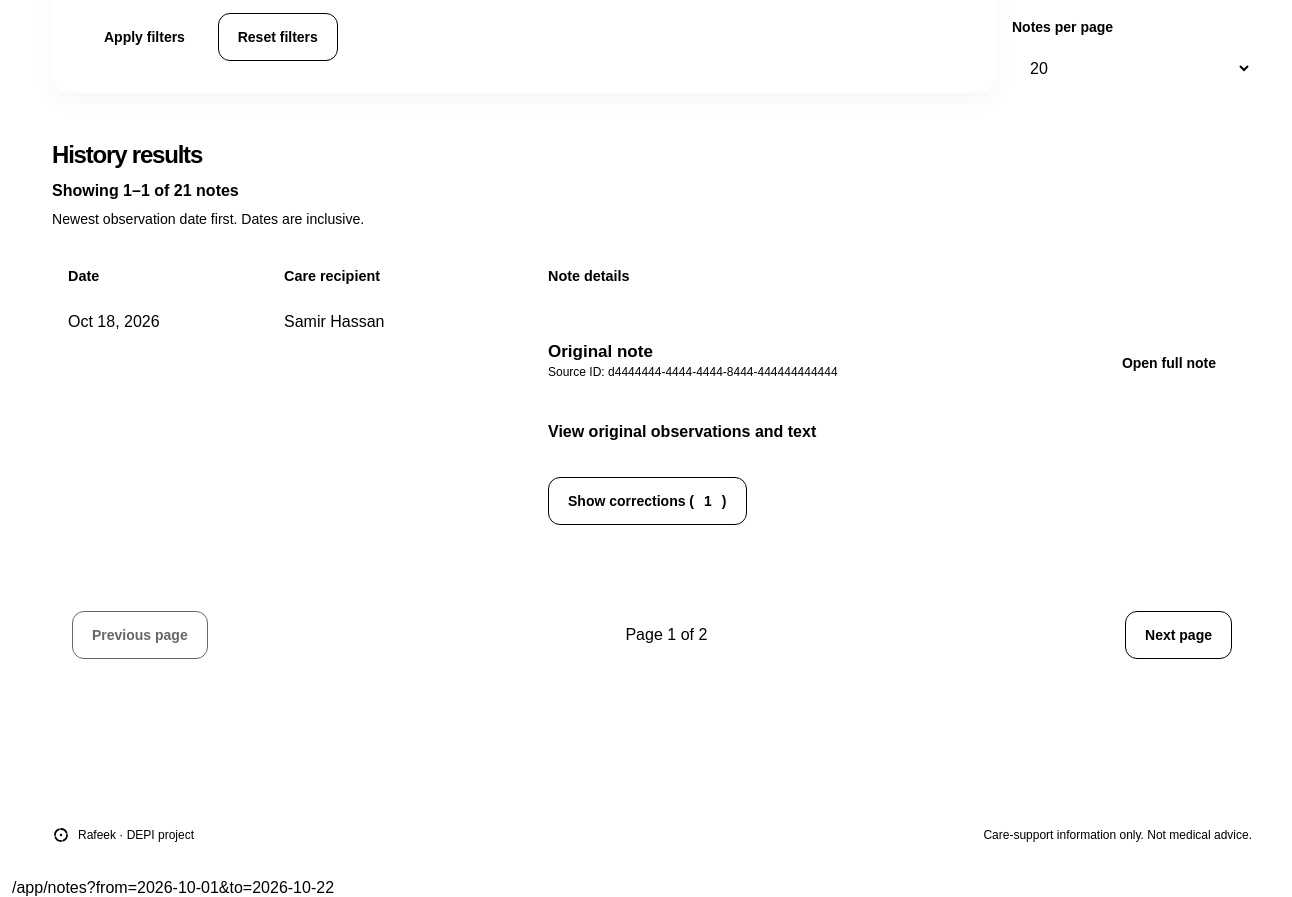
it: history screen, filters and immutable records › moves to the next page and returns to the previous page
(page scrolled)
expect the element named "Samir Hassan" is shown: met, box [548,313,1236,551]
Click the button "Next page".
click(1179, 635)  # box [1125,611,1232,659]
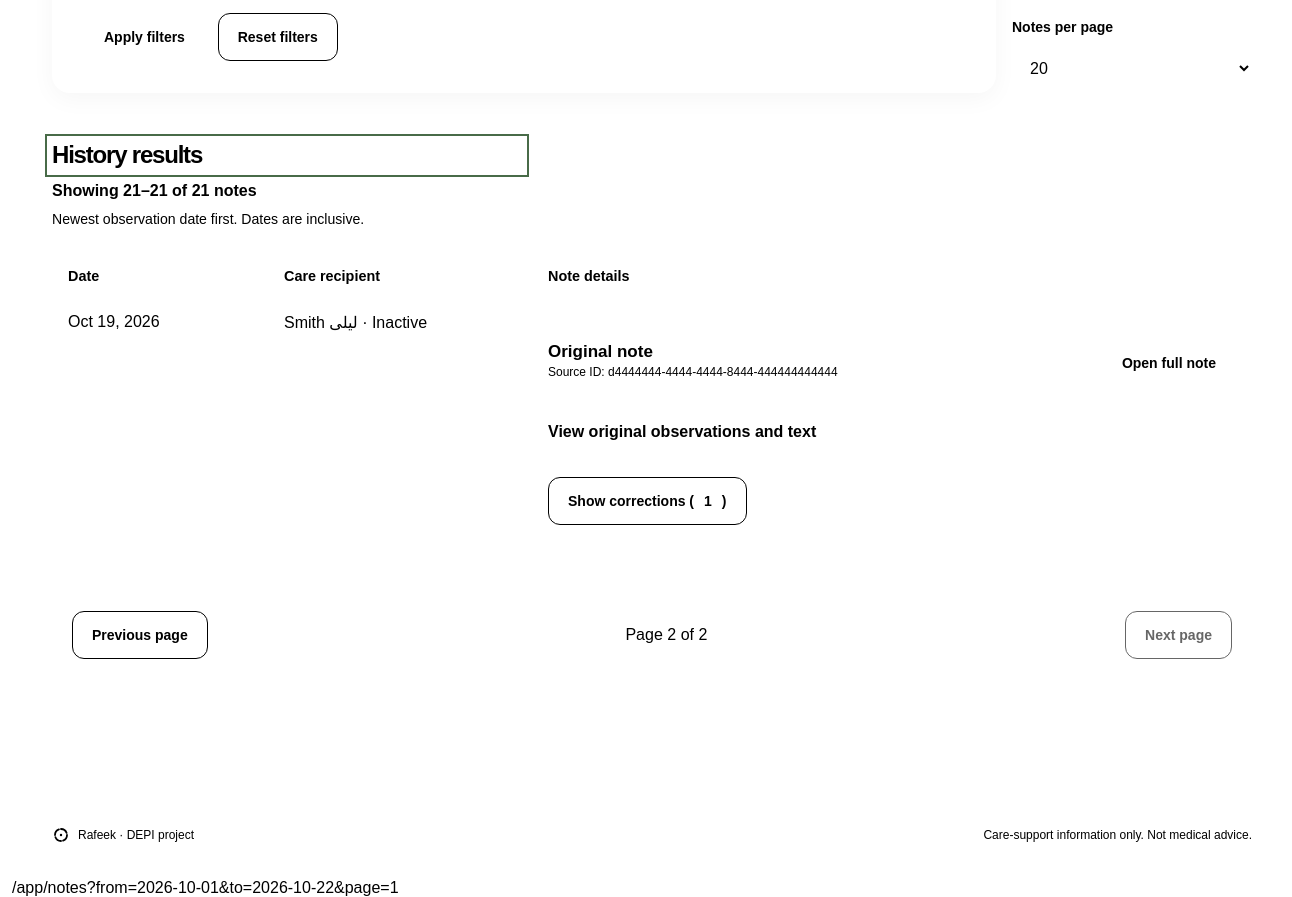
expect the element named "ليلى Smith" is shown: met, box [548,313,1236,551]
expect the button "Previous page" is enabled: met
expect the navigation bar with class "history-pagination" shows "Page 2 of 2": met, box [72,611,1232,659]
Click the button "Previous page".
click(140, 635)  # box [72,611,208,659]
(page scrolled)
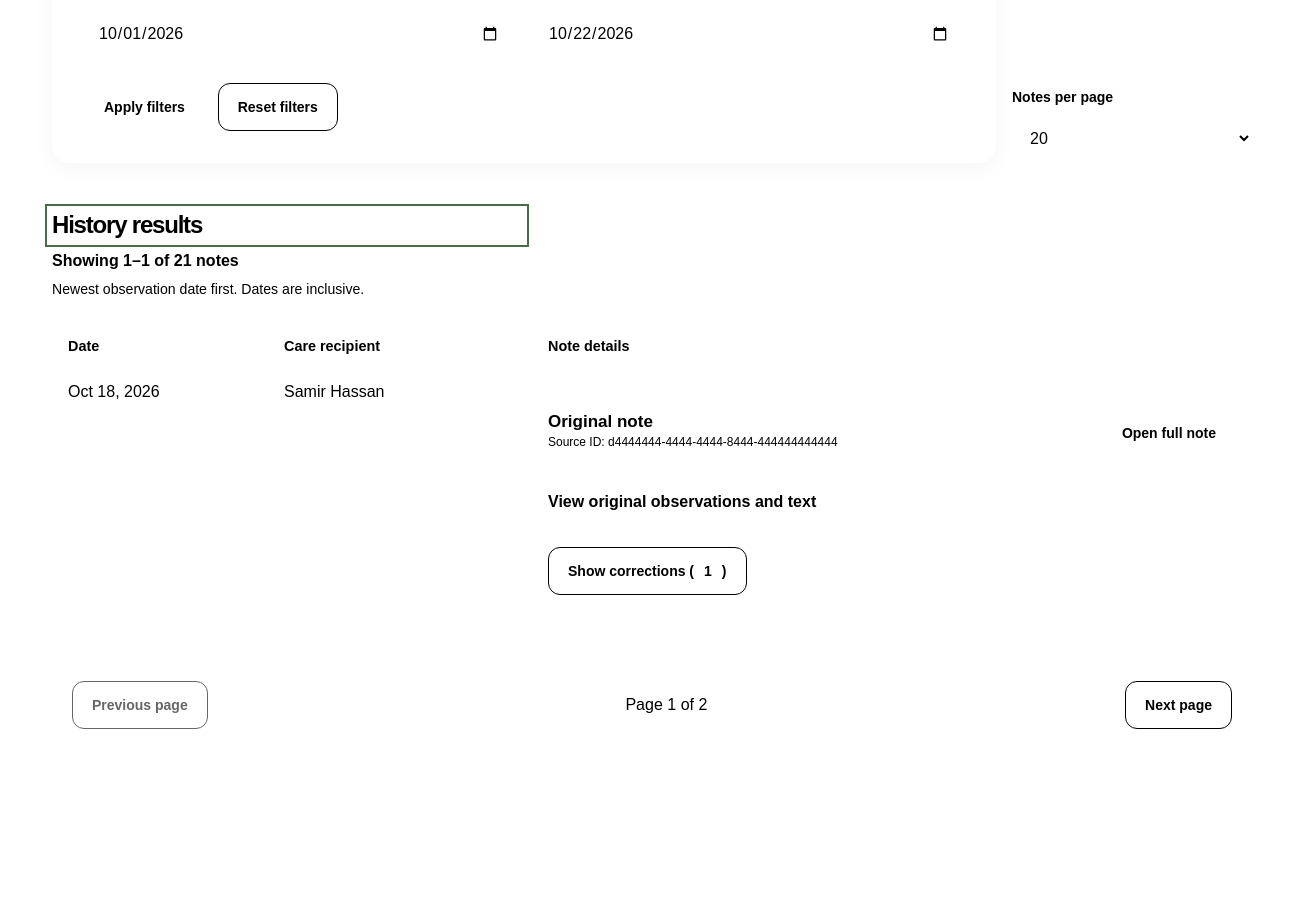
expect the element named "Samir Hassan" is shown: met, box [548,383,1236,621]
